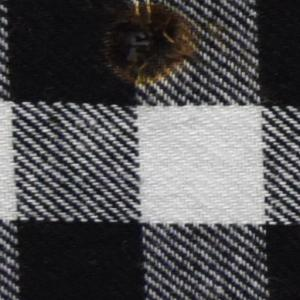Damage: (97, 1, 223, 86)
